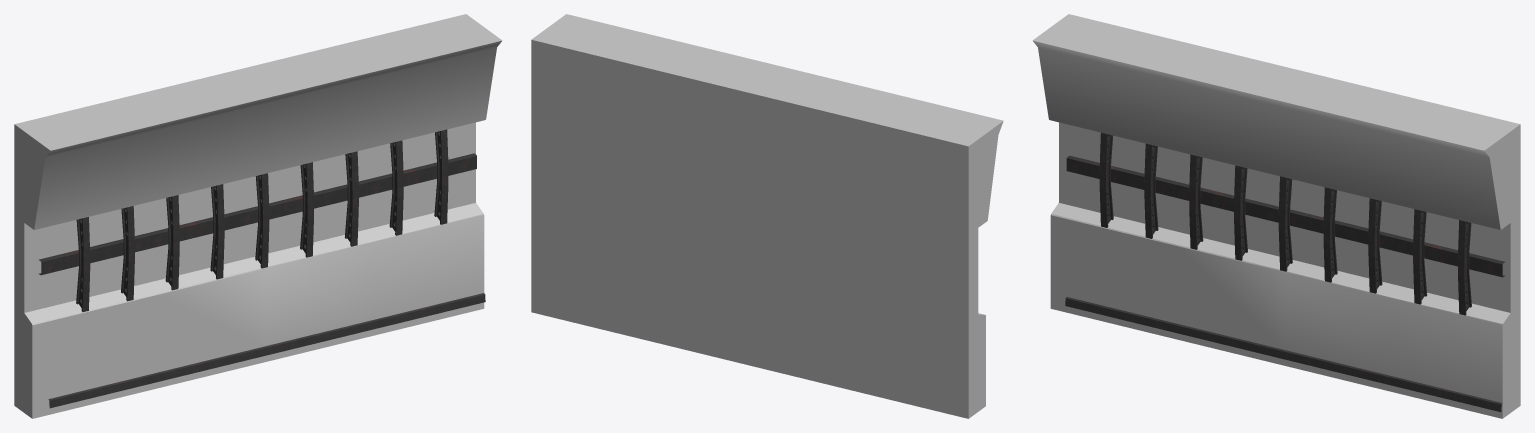
The model's file is BG_GR_BD_Wall_02.fbx.
3 views of the same model, side by side, from view 1: azimuth 30°, elevation 25°; view 2: azimuth 150°, elevation 25°; view 3: azimuth 330°, elevation 25° (orthographic). The views are drawn at different scales.
Parts seen in each view (by area): view 1: GenRm_wall_bottom_low.002, GenRm_wall_mid_low.002, GenRm_wall_mid_low, GenRm_wall_bottom_low.001; view 2: GenRm_wall_bottom_low.002; view 3: GenRm_wall_bottom_low.002, GenRm_wall_mid_low.002, GenRm_wall_mid_low, GenRm_wall_bottom_low.001.
Boxes of the visible parts, box(x1,y1,x2,y2) form: GenRm_wall_bottom_low.002: box(14, 14, 502, 418); GenRm_wall_mid_low.002: box(76, 129, 448, 312); GenRm_wall_mid_low: box(38, 153, 476, 275); GenRm_wall_bottom_low.001: box(48, 293, 485, 408); GenRm_wall_bottom_low.002: box(531, 14, 1003, 418); GenRm_wall_bottom_low.002: box(1032, 14, 1520, 418); GenRm_wall_mid_low.002: box(1099, 132, 1471, 315); GenRm_wall_mid_low: box(1066, 155, 1504, 277); GenRm_wall_bottom_low.001: box(1065, 297, 1502, 412).
Size of the model in its own units: 10.36 by 1.44 by 6.17.
